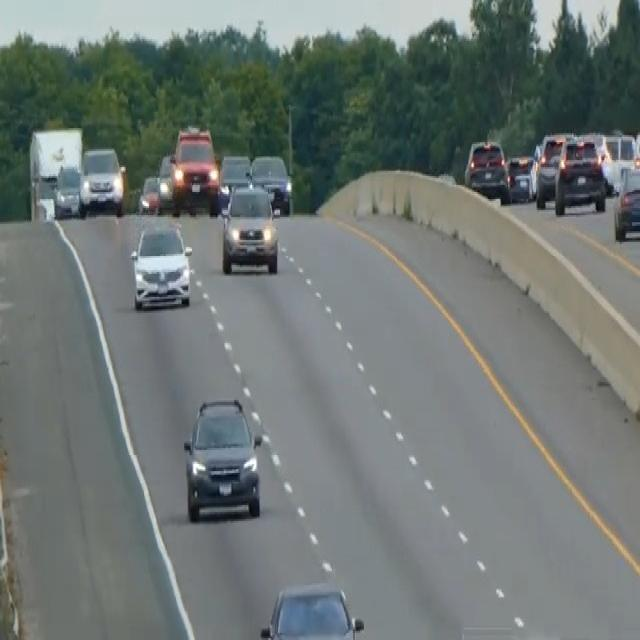car: (258, 580, 364, 638), (129, 221, 193, 311), (219, 181, 279, 274), (553, 135, 607, 215), (79, 144, 126, 215), (464, 137, 510, 203), (535, 130, 573, 206), (249, 151, 292, 213), (601, 132, 639, 192), (612, 164, 639, 242), (217, 151, 251, 210), (52, 162, 82, 218), (506, 151, 537, 201), (156, 151, 177, 208), (137, 173, 161, 215)
jeep: (181, 393, 264, 523)
lorry: (27, 125, 83, 222)
